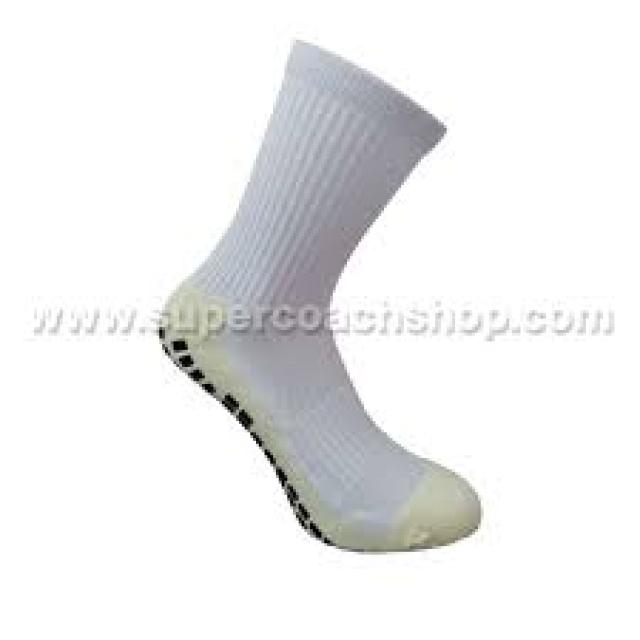sock: (153, 34, 480, 552)
